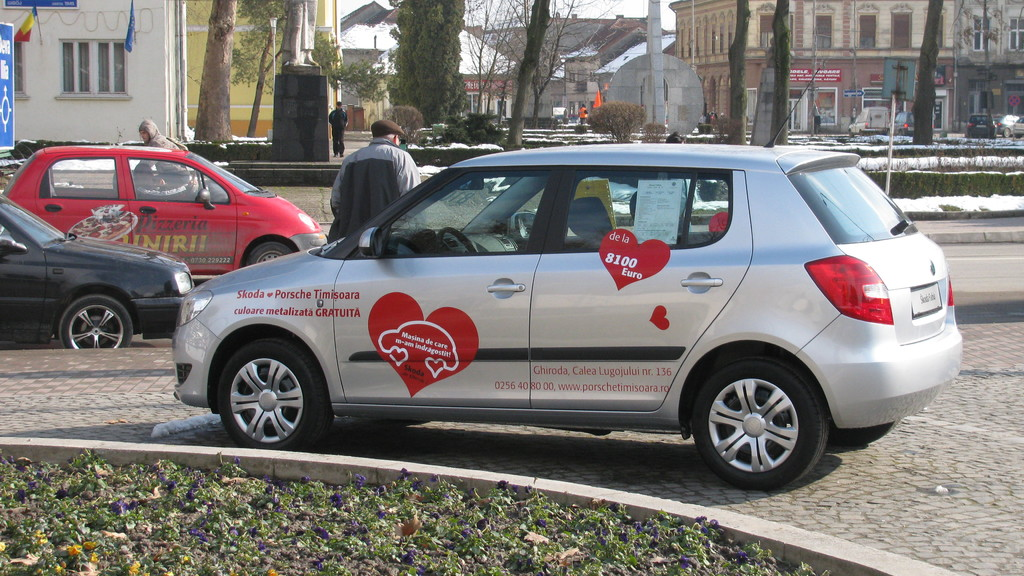Person: (657, 132, 700, 243), (133, 119, 189, 184), (132, 162, 199, 201), (327, 97, 349, 159), (697, 108, 731, 137), (576, 102, 590, 126)
